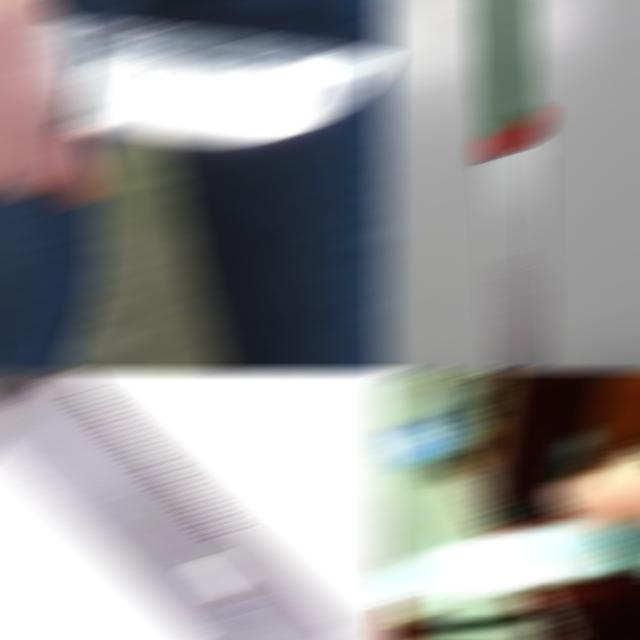Knife: (0, 373, 346, 638), (42, 20, 391, 143), (477, 2, 545, 369)
Knife_Handle: (0, 2, 391, 226), (377, 374, 640, 594)
